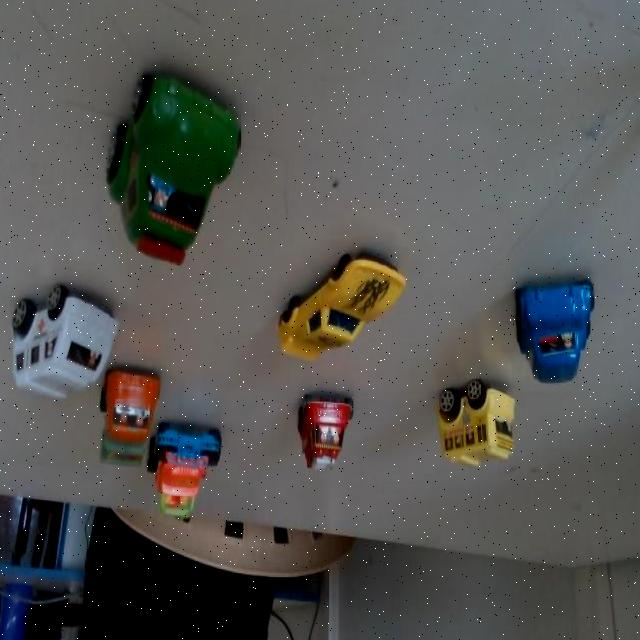car: (93, 83, 241, 260), (3, 266, 127, 418), (272, 244, 409, 369), (514, 274, 598, 386), (428, 370, 514, 469), (152, 425, 233, 526), (284, 377, 356, 482), (96, 364, 161, 478)
